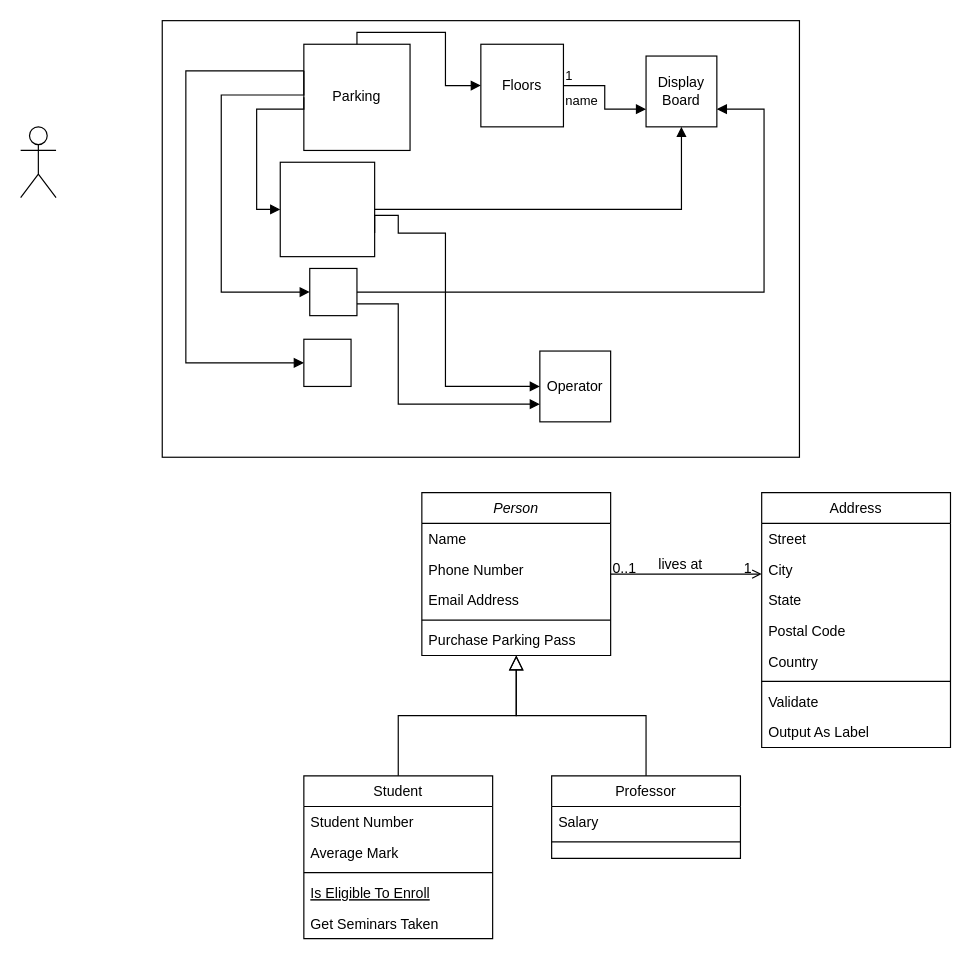
Some shapes in this 971 by 963 pixel diagram are drawn without their labels. The centre of each missing label's shape, as x and y in pixels:
"Actor" belongs at pixel 37 162.
"Entry" belongs at pixel 327 209.
"Exit" belongs at pixel 333 291.
"Lot" belongs at pixel 327 362.
